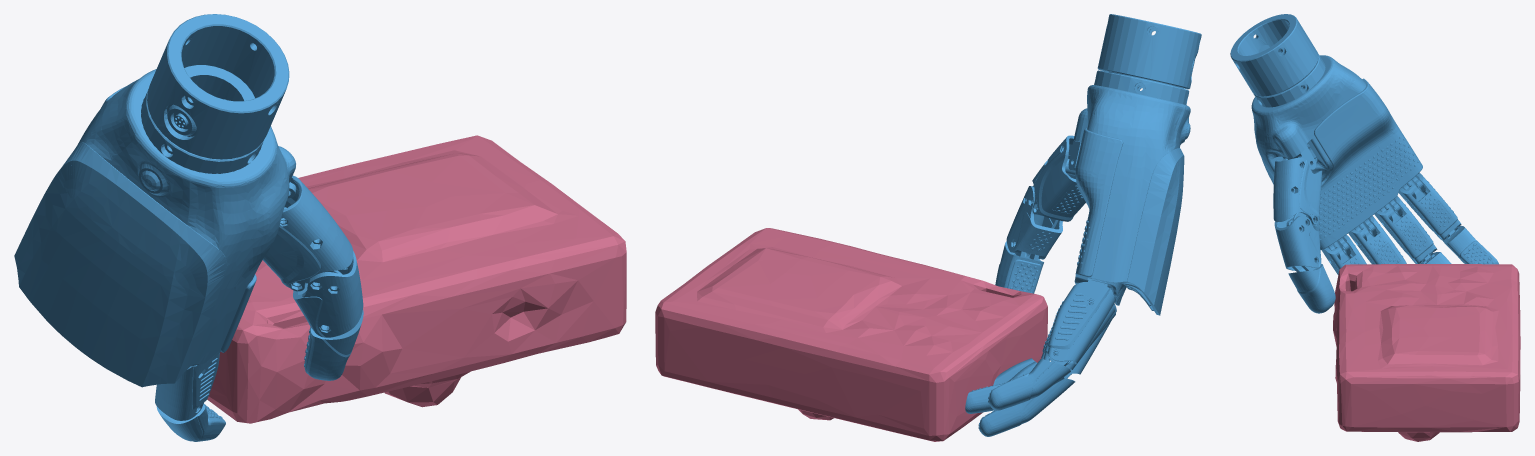
The picture shows the model from 3 angles, left to right: view 1: azimuth 30°, elevation 25°; view 2: azimuth 150°, elevation 25°; view 3: azimuth 270°, elevation 25°; orthographic projection. The views are drawn at different scales.
Visible parts, largest first — view 1: 7; view 2: 7; view 3: 7.
Part boxes in pixels (<box>): 7: <box>14,14,626,441</box>; 7: <box>655,14,1201,441</box>; 7: <box>1230,14,1520,441</box>.
Bounding box in the file's own units: 0.2594 × 0.2322 × 0.1894.
